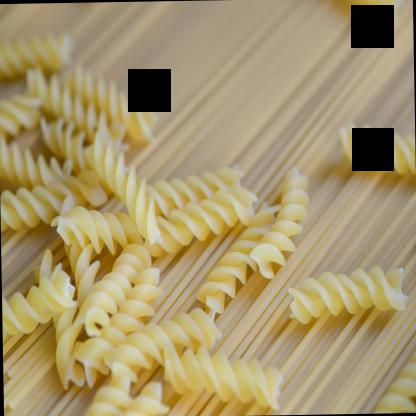pasta: (0, 24, 310, 415)
